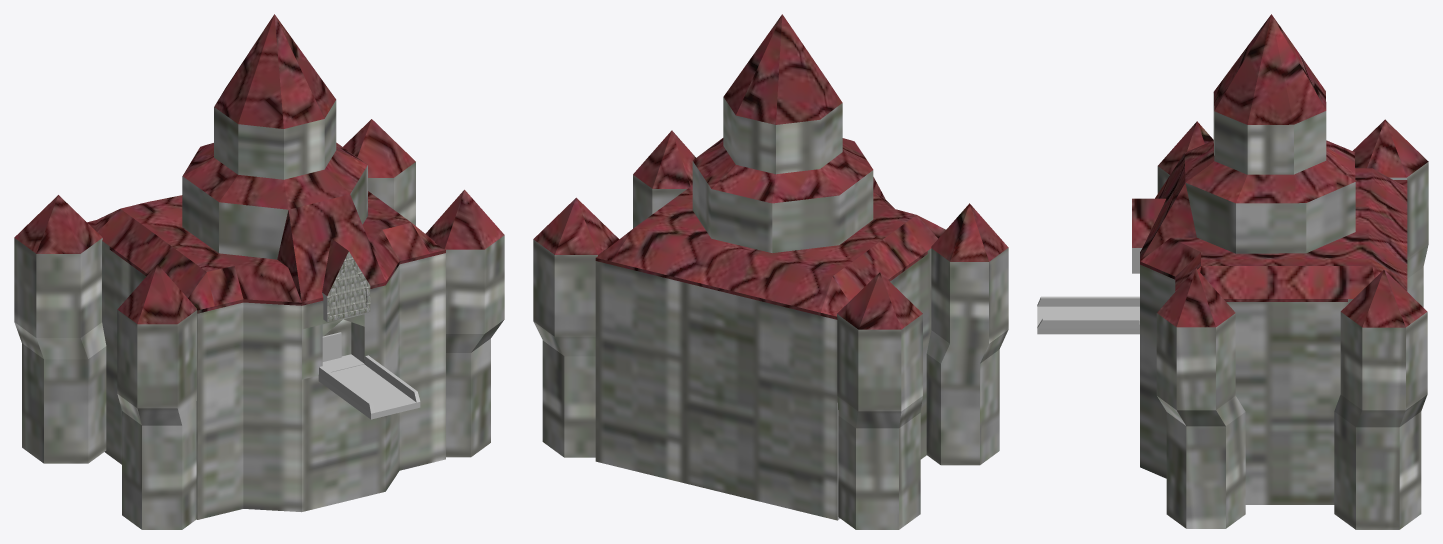
File: castle.fbx
3 views of the same model, side by side, from view 1: azimuth 30°, elevation 25°; view 2: azimuth 150°, elevation 25°; view 3: azimuth 270°, elevation 25° (orthographic). The views are drawn at different scales.
Parts seen in each view (by area): view 1: Circle; view 2: Circle; view 3: Circle.
Boxes of the visible parts, bbox=[...] form: Circle: bbox=[14, 14, 504, 529]; Circle: bbox=[533, 14, 1008, 529]; Circle: bbox=[1037, 14, 1428, 529].
Bounding box in the file's own units: 1758 × 1948 × 1598.
